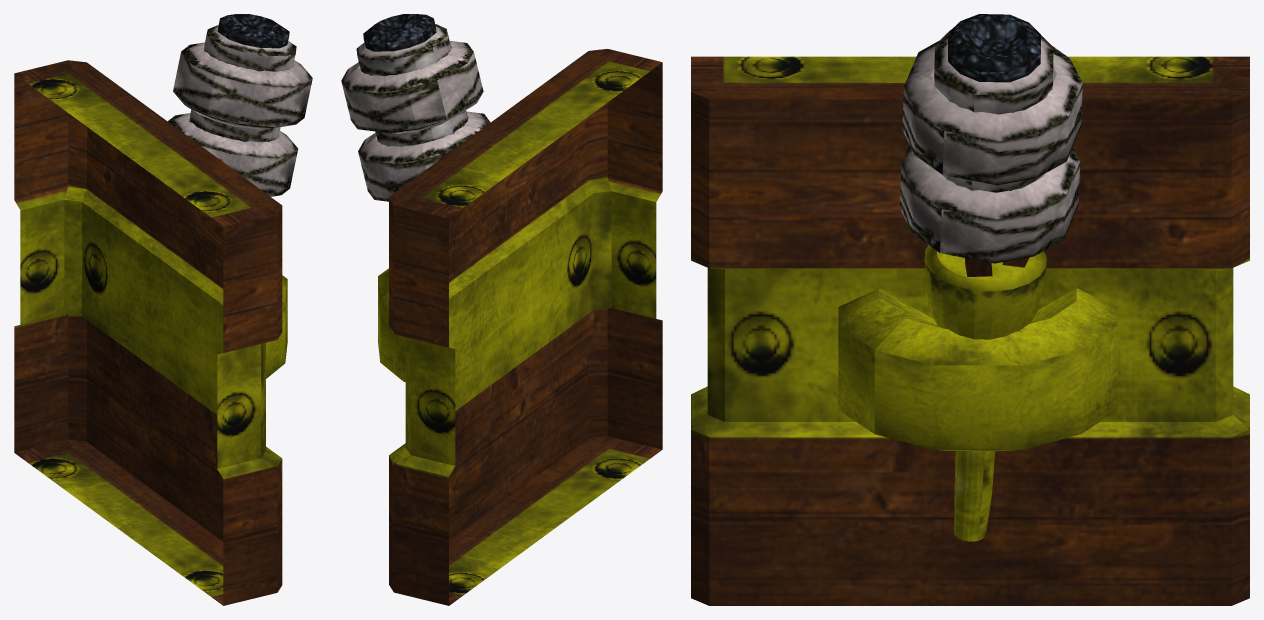
File: Torch.fbx
3 views of the same model, side by side, from view 1: azimuth 30°, elevation 25°; view 2: azimuth 150°, elevation 25°; view 3: azimuth 270°, elevation 25° (orthographic). The views are drawn at different scales.
Parts seen in each view (by area): view 1: Torch; view 2: Torch; view 3: Torch.
Part boxes in pixels (x1,y1,x2,y2): Torch: (14,14,312,605); Torch: (341,14,662,605); Torch: (691,14,1249,605).
Size of the model in its own units: 42.32 by 98.5 by 79.49.
